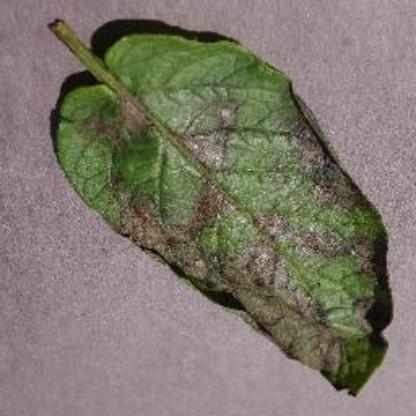Late-Blight: (19, 10, 398, 408)
